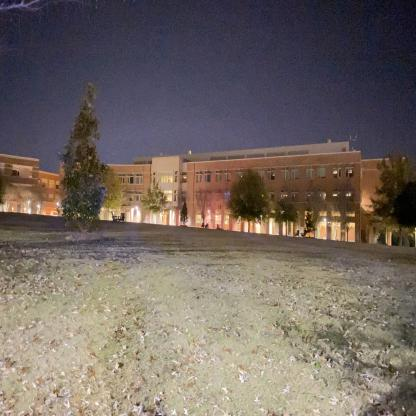eb3: (51, 125, 407, 240)
